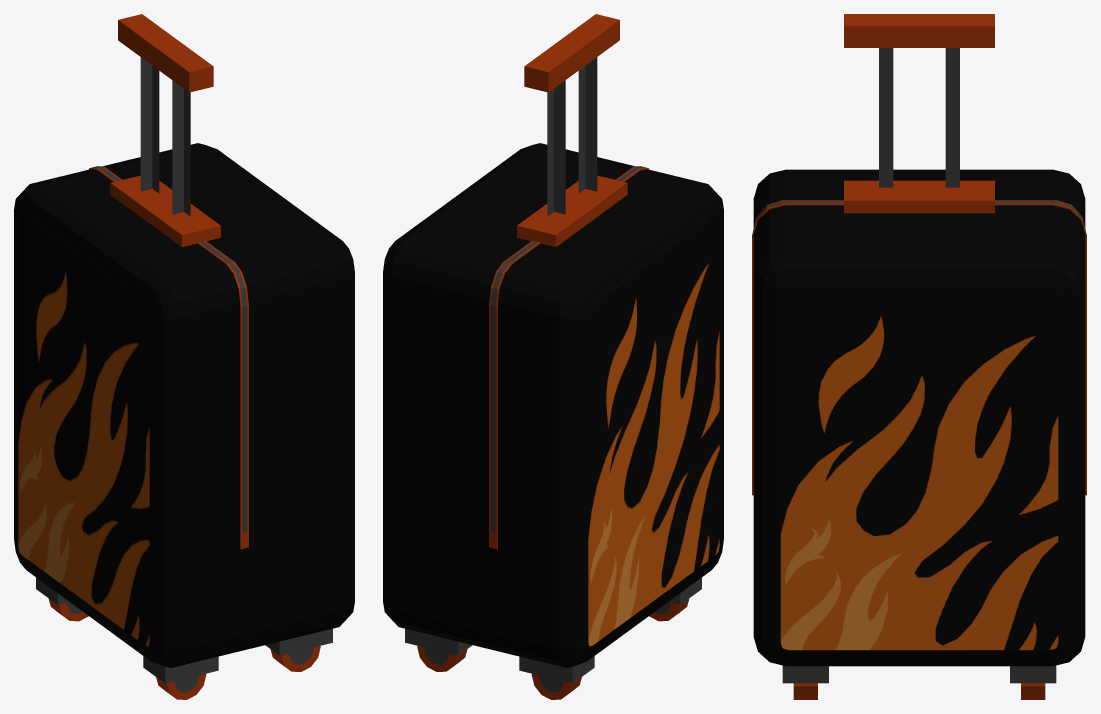
Rendered from hot_rod.glb.
The picture shows the model from 3 angles, left to right: view 1: azimuth 30°, elevation 25°; view 2: azimuth 150°, elevation 25°; view 3: azimuth 270°, elevation 25°; orthographic projection. The views are drawn at different scales.
Visible parts, largest first — view 1: Flame Luggage; view 2: Flame Luggage; view 3: Flame Luggage.
Boxes of the visible parts, x1,y1,x2,y2 form: Flame Luggage: (14,14,354,699); Flame Luggage: (383,14,723,699); Flame Luggage: (752,14,1086,699).
Size of the model in its own units: 1.48 by 4.25 by 2.02.
Materials: 4 (1 with a texture image).
